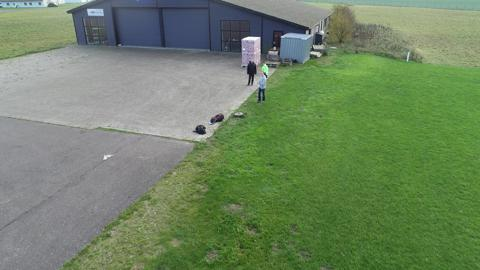RockwoolPallet: (241, 36, 262, 68)
